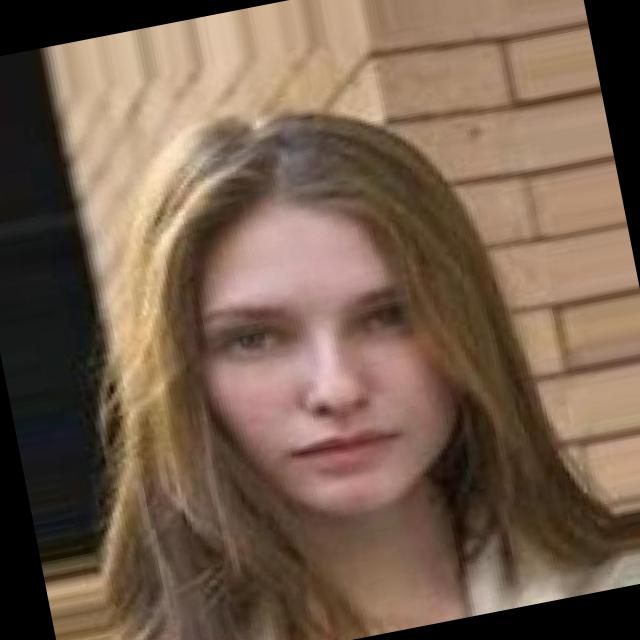bareface: (109, 94, 492, 546)
